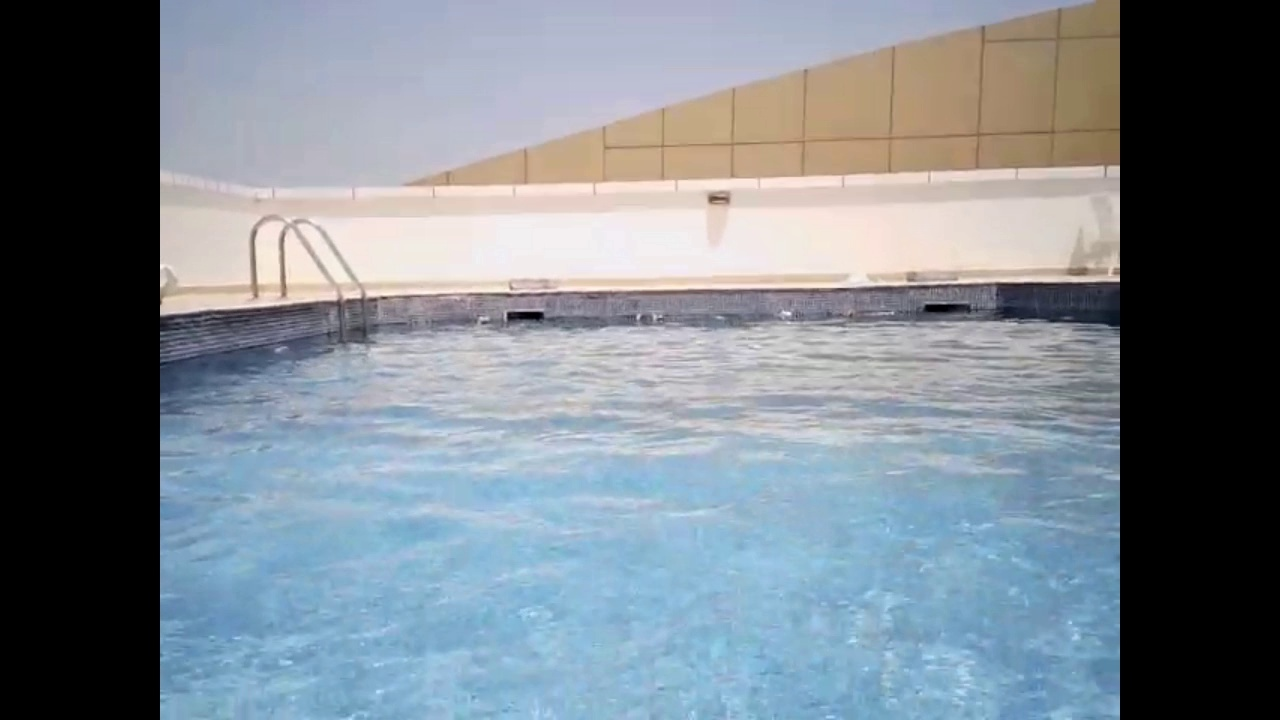debris: (470, 309, 493, 328), (645, 312, 669, 327), (630, 311, 652, 325), (777, 307, 794, 323), (840, 305, 857, 319)
